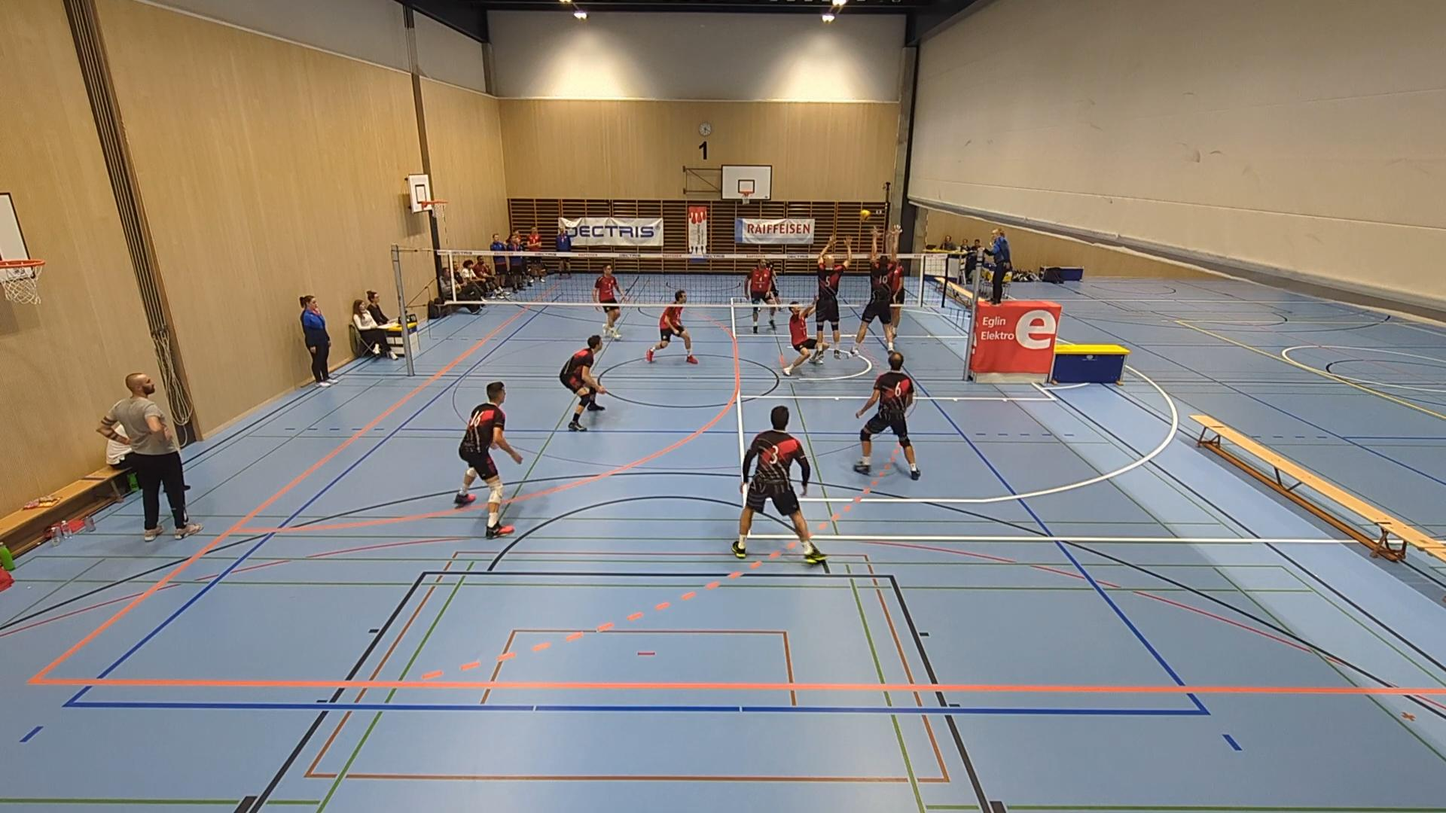attacco: (879, 239, 905, 344)
muro: (806, 234, 853, 358), (866, 242, 906, 362)
